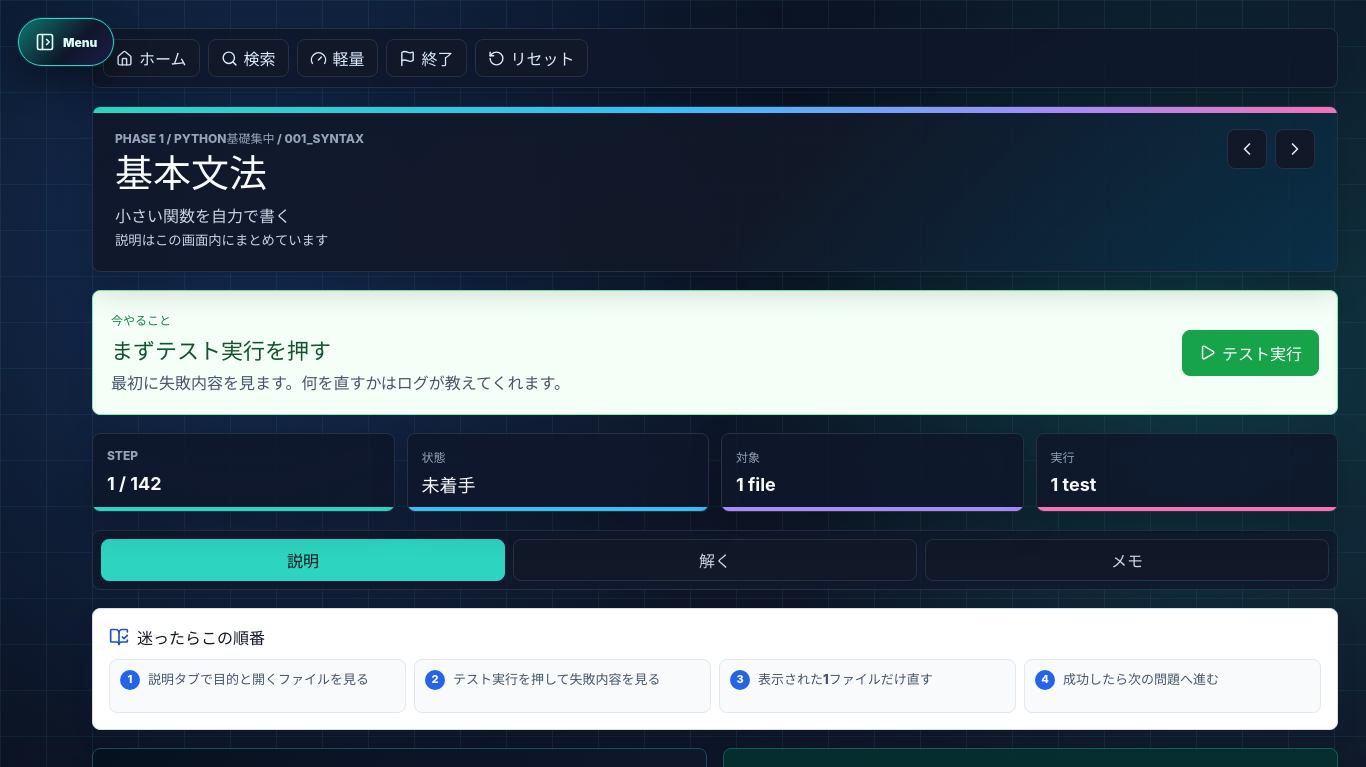
Test: Python Master app › 軽量モードで参照パネルと実務ラボを畳める
Click the button "メモ": (1127, 560) [925, 539, 1329, 581]
(page scrolled)
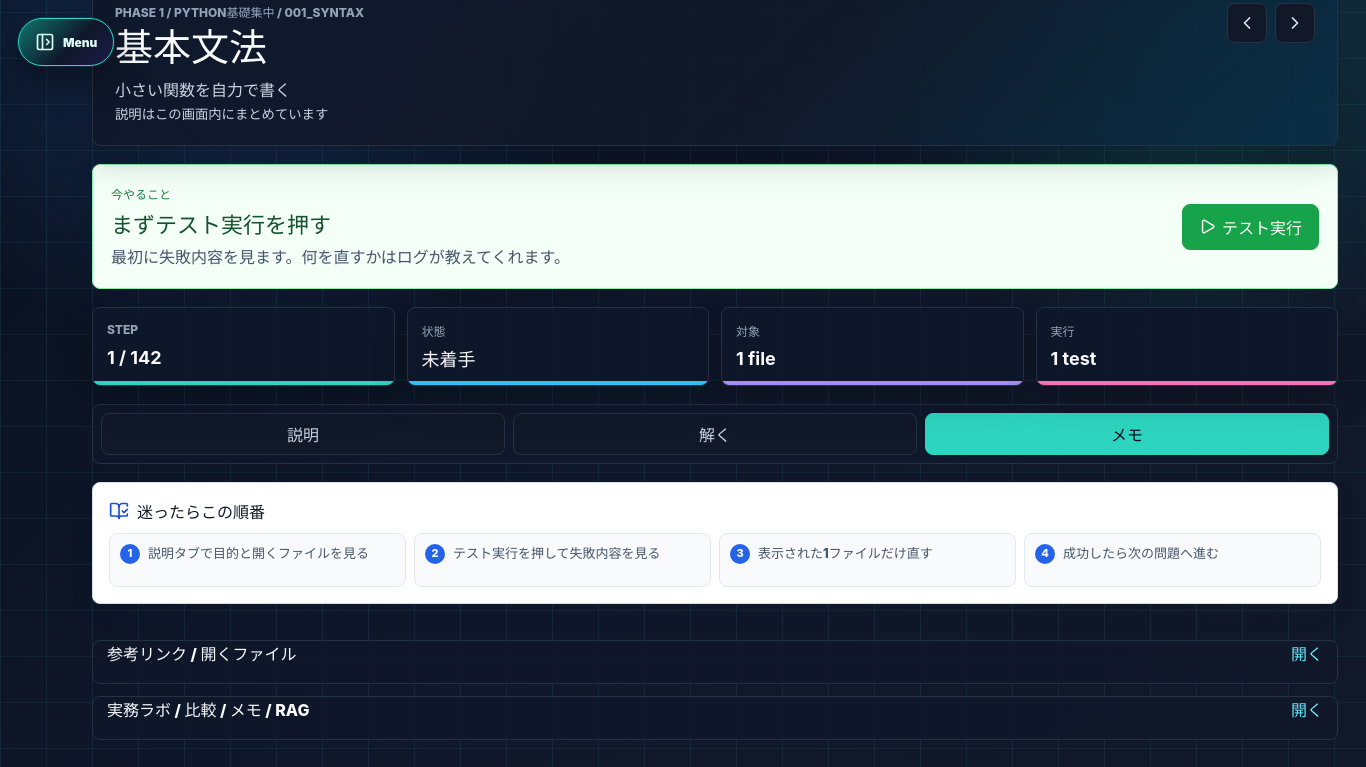
Now the button with class "collapse-toggle" showing "実務ラボ / 比較 / メモ / RAG 開く" is shown
Click the button with class "collapse-toggle" showing "実務ラボ / 比較 / メモ / RAG 開く": (208, 710) [92, 696, 1338, 740]
(page scrolled)
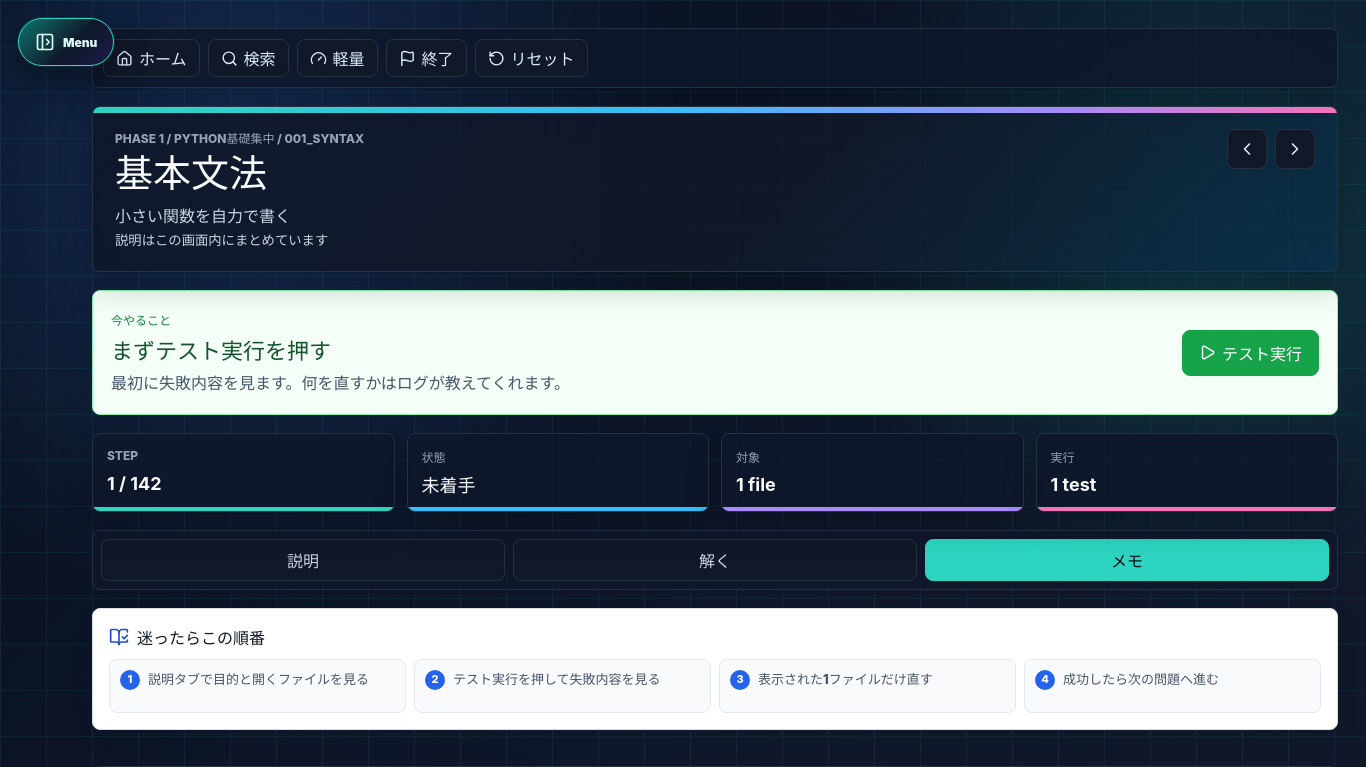
Click the button "軽量": (337, 58) [296, 39, 378, 77]
(page scrolled)
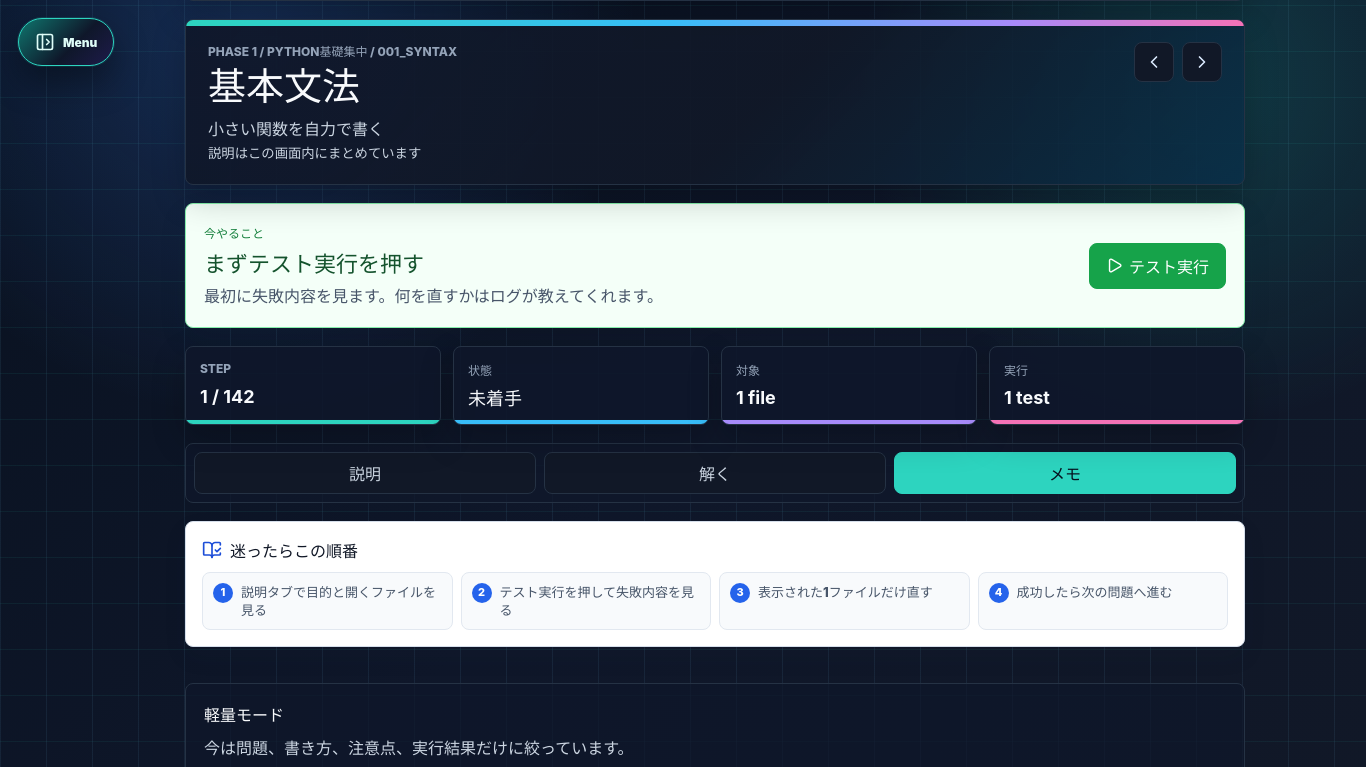
Now the element with class "mentor-shell" shows "軽量モード", box [204, 706, 284, 726]
